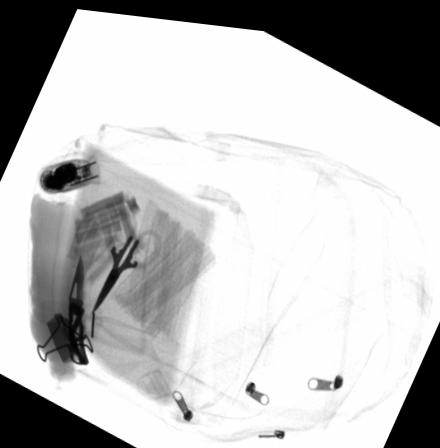Knife: (67, 250, 88, 362)
Scissors: (91, 203, 162, 309)
